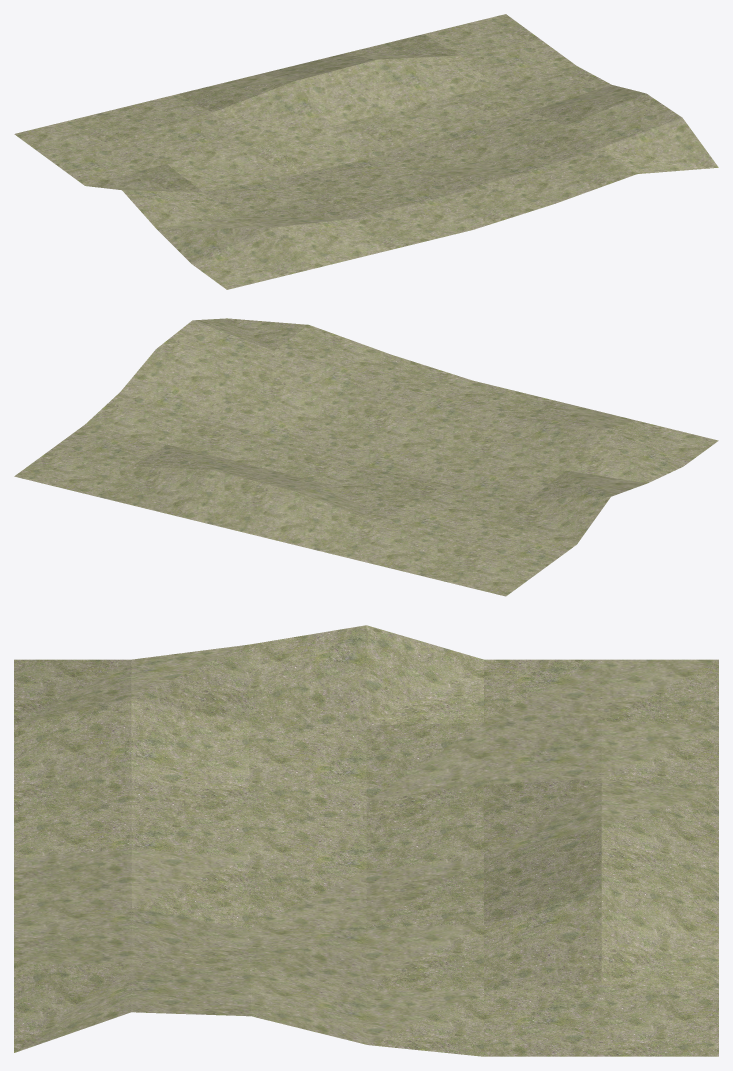
Rendered from SM_Chateaux_11_00.fbx.
3 views of the same model, one above another, from view 1: azimuth 30°, elevation 25°; view 2: azimuth 150°, elevation 25°; view 3: azimuth 270°, elevation 25° (orthographic). The views are drawn at different scales.
Parts seen in each view (by area): view 1: SM_Chateaux_11_00; view 2: SM_Chateaux_11_00; view 3: SM_Chateaux_11_00.
Part boxes in pixels (bbox=[...]): SM_Chateaux_11_00: bbox=[14, 14, 718, 289]; SM_Chateaux_11_00: bbox=[14, 318, 718, 596]; SM_Chateaux_11_00: bbox=[14, 625, 718, 1056].
Bounding box in the file's own units: 11760 × 771 × 8821.
